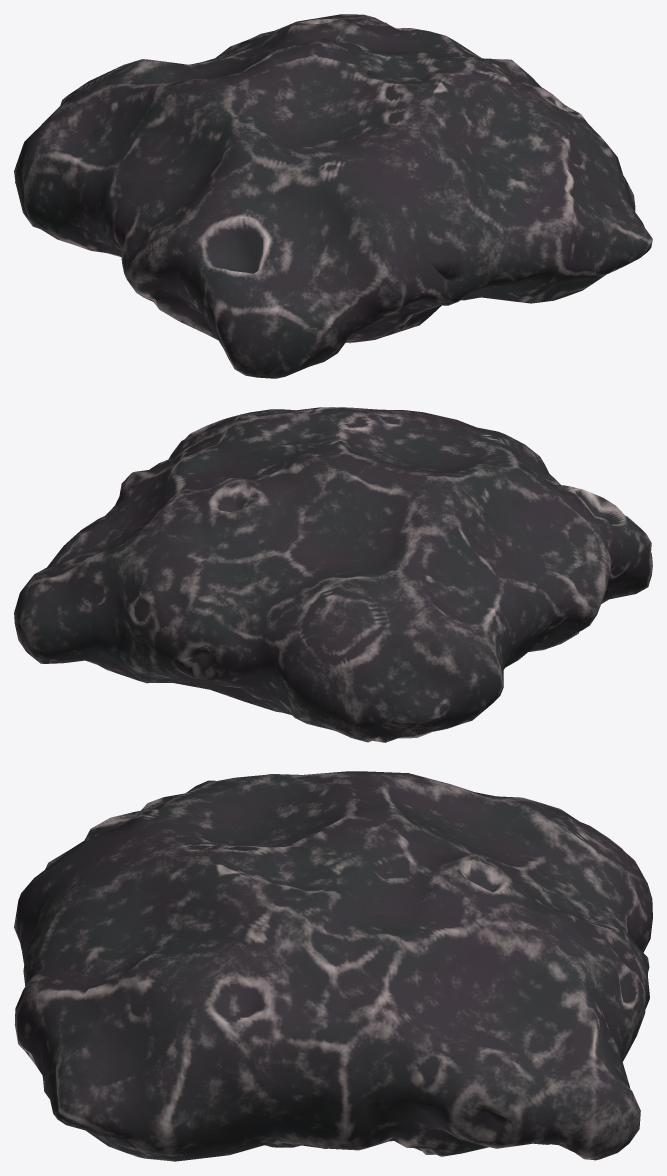
3 renders of one model, top to bottom at view 1: azimuth 30°, elevation 25°; view 2: azimuth 150°, elevation 25°; view 3: azimuth 270°, elevation 25°, orthographic. The views are drawn at different scales.
Parts seen in each view (by area): view 1: 10.001; view 2: 10.001; view 3: 10.001.
Boxes of the visible parts, left/top/right/bottom form: 10.001: left=14, top=14, right=652, bottom=378; 10.001: left=14, top=407, right=652, bottom=742; 10.001: left=14, top=771, right=652, bottom=1161.
Bounding box in the file's own units: 11.27 × 5.79 × 11.25.
1 material, 1 textured.
